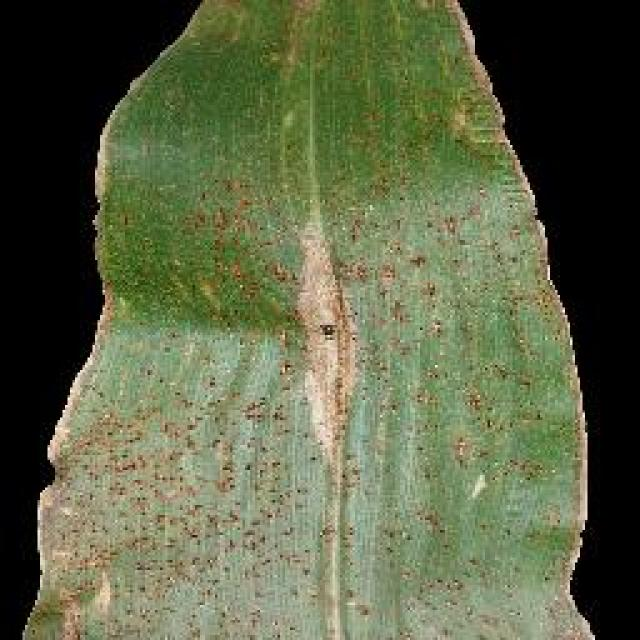Corn Common Rust: (42, 172, 548, 616)
